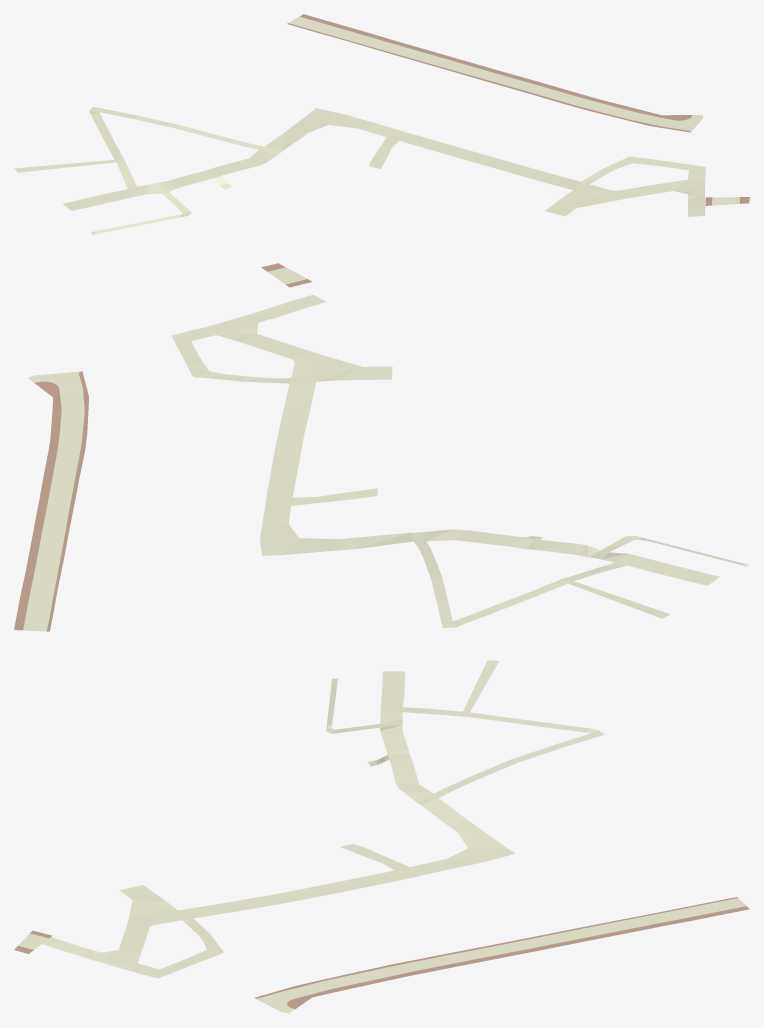
Rendered from data77.glb.
3 views of the same model, one above another, from view 1: azimuth 30°, elevation 25°; view 2: azimuth 150°, elevation 25°; view 3: azimuth 270°, elevation 25° (orthographic). The views are drawn at different scales.
Size of the model in its own units: 242 by 9.76 by 229.
